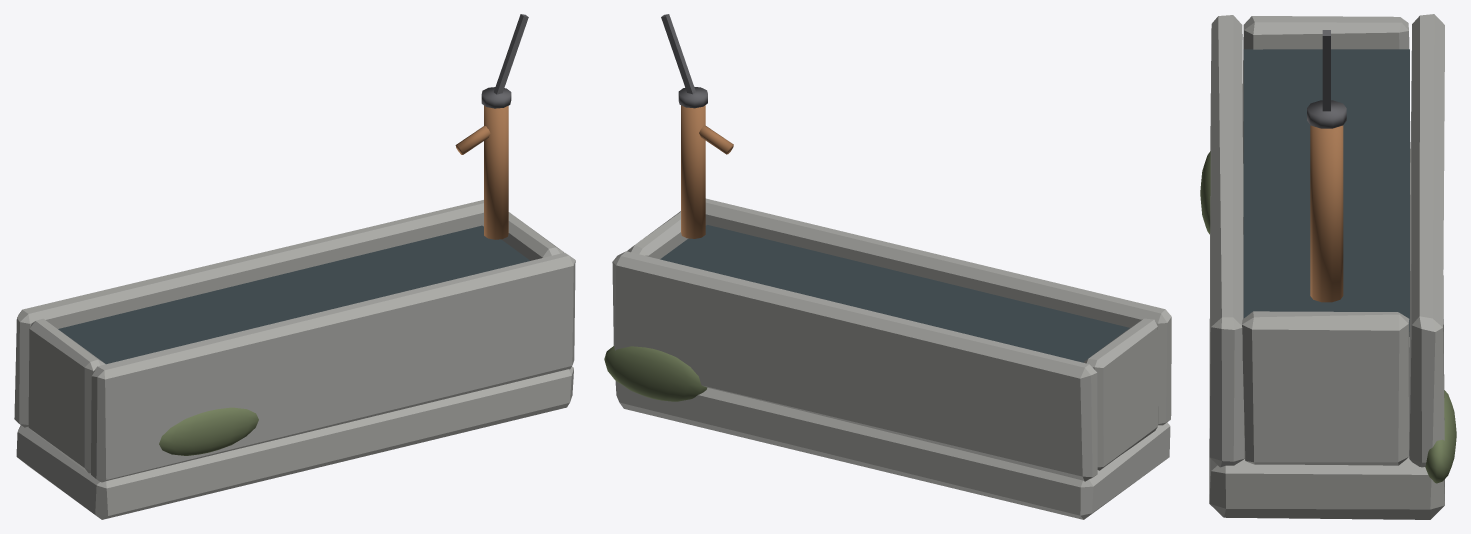
Rendered from v_trough.glb.
3 renders of one model, left to right at view 1: azimuth 30°, elevation 25°; view 2: azimuth 150°, elevation 25°; view 3: azimuth 270°, elevation 25°, orthographic. The views are drawn at different scales.
Parts seen in each view (by area): view 1: Trough; view 2: Trough; view 3: Trough.
Part boxes in pixels (bbox=[...]): Trough: bbox=[14, 14, 575, 519]; Trough: bbox=[604, 14, 1171, 519]; Trough: bbox=[1200, 14, 1456, 519].
Size of what is drawn, in the model's own units: 2.25 by 1.61 by 0.77.
